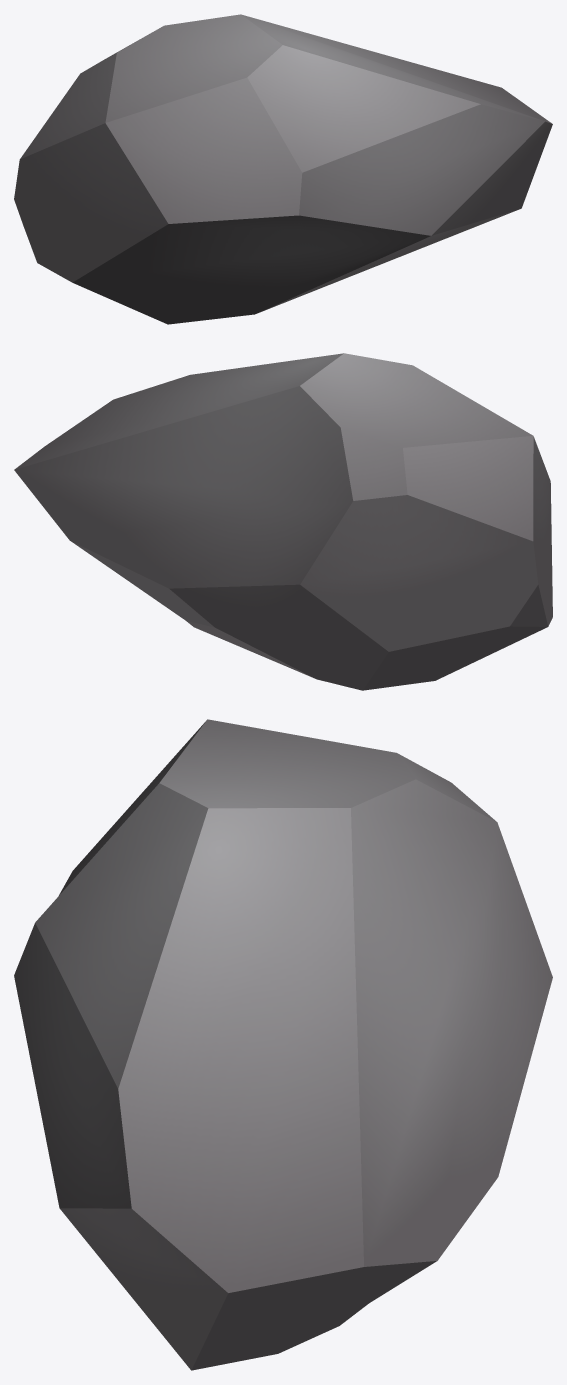
File: LongSize_Rock.fbx
3 views of the same model, one above another, from view 1: azimuth 30°, elevation 25°; view 2: azimuth 150°, elevation 25°; view 3: azimuth 270°, elevation 25° (orthographic). The views are drawn at different scales.
Parts seen in each view (by area): view 1: LongSize_Rock; view 2: LongSize_Rock; view 3: LongSize_Rock.
Boxes of the visible parts, x1,y1,x2,y2 form: LongSize_Rock: (14, 14, 552, 324); LongSize_Rock: (14, 353, 552, 690); LongSize_Rock: (14, 719, 552, 1370).
Bounding box in the file's own units: 3.57 × 1.73 × 1.96.
1 material, 1 textured.
